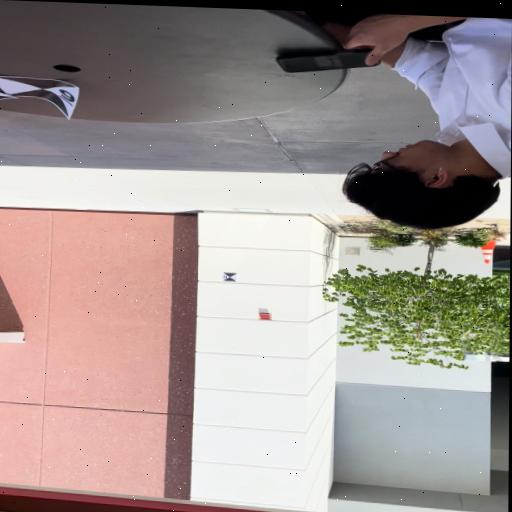target6: (222, 273, 237, 281)
